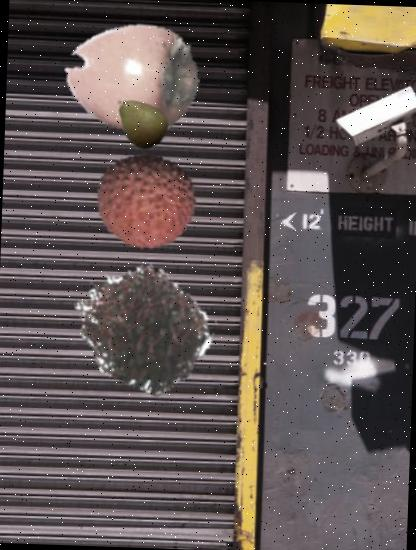Kaki: (61, 8, 204, 150)
Lychee: (92, 148, 199, 255)
Pear: (113, 94, 171, 151)
Rambutan: (66, 251, 216, 401)
